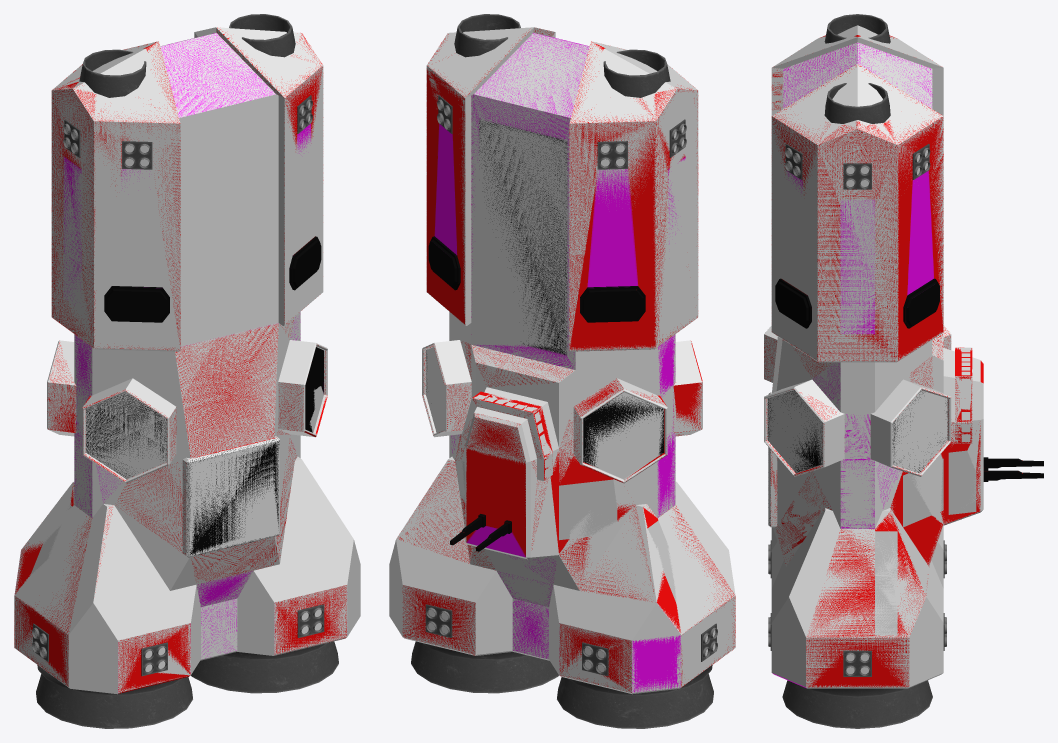
The model's file is Lantock.fbx.
The picture shows the model from 3 angles, left to right: view 1: azimuth 30°, elevation 25°; view 2: azimuth 150°, elevation 25°; view 3: azimuth 270°, elevation 25°; orthographic projection. The views are drawn at different scales.
Parts seen in each view (by area): view 1: Colider_01, Hull_LOD0, Colider_05, Colider_02, Engines_LOD0, Colider_10, Colider_08, Colider_09, EngineGlow_LOD0; view 2: Hull_LOD0, Colider_01, Colider_02, Colider_05, Engines_LOD0, Colider_09, Colider_04, Colider_07, Colider_03, Colider_10, EngineGlow_LOD0; view 3: Hull_LOD0, Colider_01, Colider_02, Colider_05, Engines_LOD0, Colider_07, Colider_08, Colider_04, Colider_03, Colider_10, EngineGlow_LOD0.
Part boxes in pixels (box(x1,y1,x2,y2)): Colider_01: box(51, 27, 323, 351); Hull_LOD0: box(14, 27, 347, 693); Colider_05: box(74, 312, 300, 607); Colider_02: box(14, 456, 360, 694); Engines_LOD0: box(32, 14, 338, 728); Colider_10: box(82, 378, 176, 483); Colider_08: box(278, 340, 327, 436); Colider_09: box(47, 340, 76, 436); EngineGlow_LOD0: box(34, 102, 321, 671); Hull_LOD0: box(399, 29, 735, 692); Colider_01: box(426, 27, 698, 351); Colider_02: box(389, 456, 735, 694); Colider_05: box(449, 312, 675, 607); Engines_LOD0: box(411, 14, 717, 728); Colider_09: box(573, 378, 667, 482); Colider_04: box(465, 387, 558, 559); Colider_07: box(422, 340, 471, 437); Colider_03: box(460, 393, 552, 480); Colider_10: box(673, 340, 702, 436); EngineGlow_LOD0: box(428, 102, 715, 671); Hull_LOD0: box(764, 35, 1043, 688); Colider_01: box(771, 25, 943, 362); Colider_02: box(771, 508, 943, 688); Colider_05: box(768, 332, 943, 566); Engines_LOD0: box(768, 14, 946, 728); Colider_07: box(870, 379, 951, 476); Colider_08: box(764, 379, 844, 476); Colider_04: box(943, 348, 983, 525); Colider_03: box(955, 347, 972, 443); Colider_10: box(764, 326, 777, 382); EngineGlow_LOD0: box(787, 149, 927, 674).
Size of what is drawn, in the model's own units: 429 by 885 by 366.
